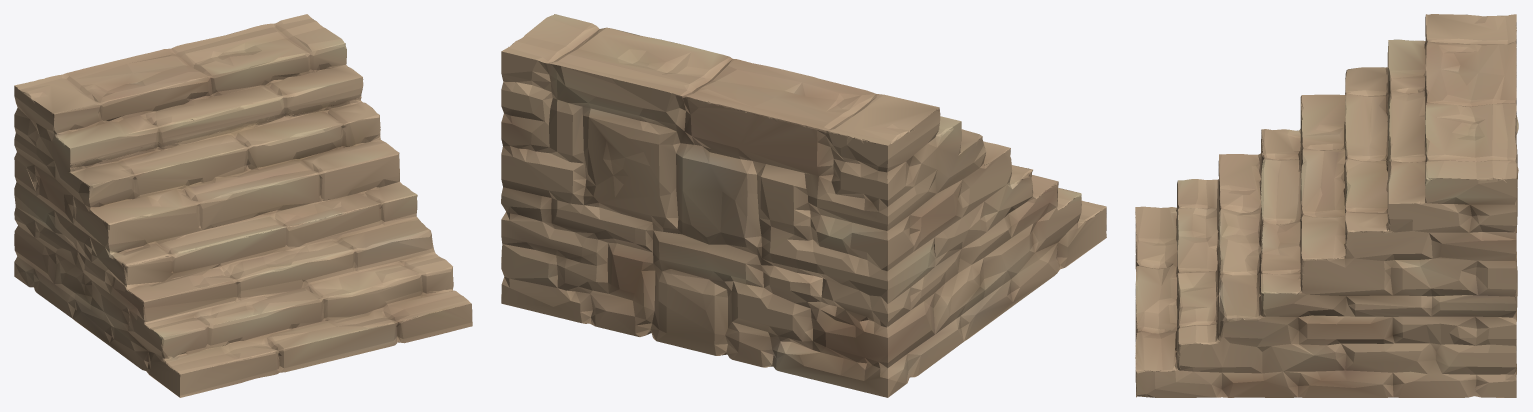
The model's file is Stairs_01.glb.
3 renders of one model, left to right at view 1: azimuth 30°, elevation 25°; view 2: azimuth 150°, elevation 25°; view 3: azimuth 270°, elevation 25°, orthographic. The views are drawn at different scales.
Visible parts, largest first — view 1: Stairs_01; view 2: Stairs_01; view 3: Stairs_01.
Boxes of the visible parts, x1,y1,x2,y2 form: Stairs_01: (14, 14, 472, 397); Stairs_01: (501, 14, 1106, 397); Stairs_01: (1135, 14, 1518, 397).
Size of the model in its own units: 3.01 by 1.89 by 2.95.
